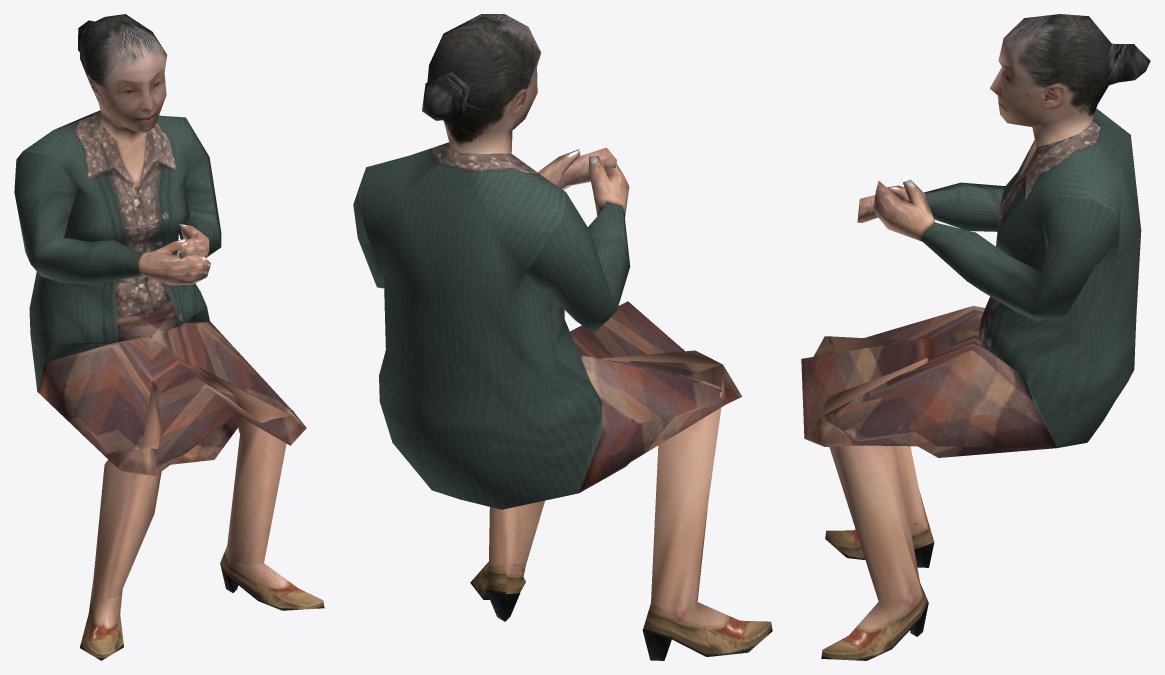
File: Granny01_2.glb
The picture shows the model from 3 angles, left to right: view 1: azimuth 30°, elevation 25°; view 2: azimuth 150°, elevation 25°; view 3: azimuth 270°, elevation 25°; orthographic projection. The views are drawn at different scales.
Visible parts, largest first — view 1: granny01_lowpoly_网格_granny01_lowpoly_网格mesh; view 2: granny01_lowpoly_网格_granny01_lowpoly_网格mesh; view 3: granny01_lowpoly_网格_granny01_lowpoly_网格mesh.
Part boxes in pixels (x1,y1,x2,y2): granny01_lowpoly_网格_granny01_lowpoly_网格mesh: [14, 14, 324, 660]; granny01_lowpoly_网格_granny01_lowpoly_网格mesh: [353, 14, 772, 660]; granny01_lowpoly_网格_granny01_lowpoly_网格mesh: [801, 14, 1150, 660].
Bounding box in the file's own units: 0.5121 × 1.18 × 0.6268.
1 material, 1 textured.
